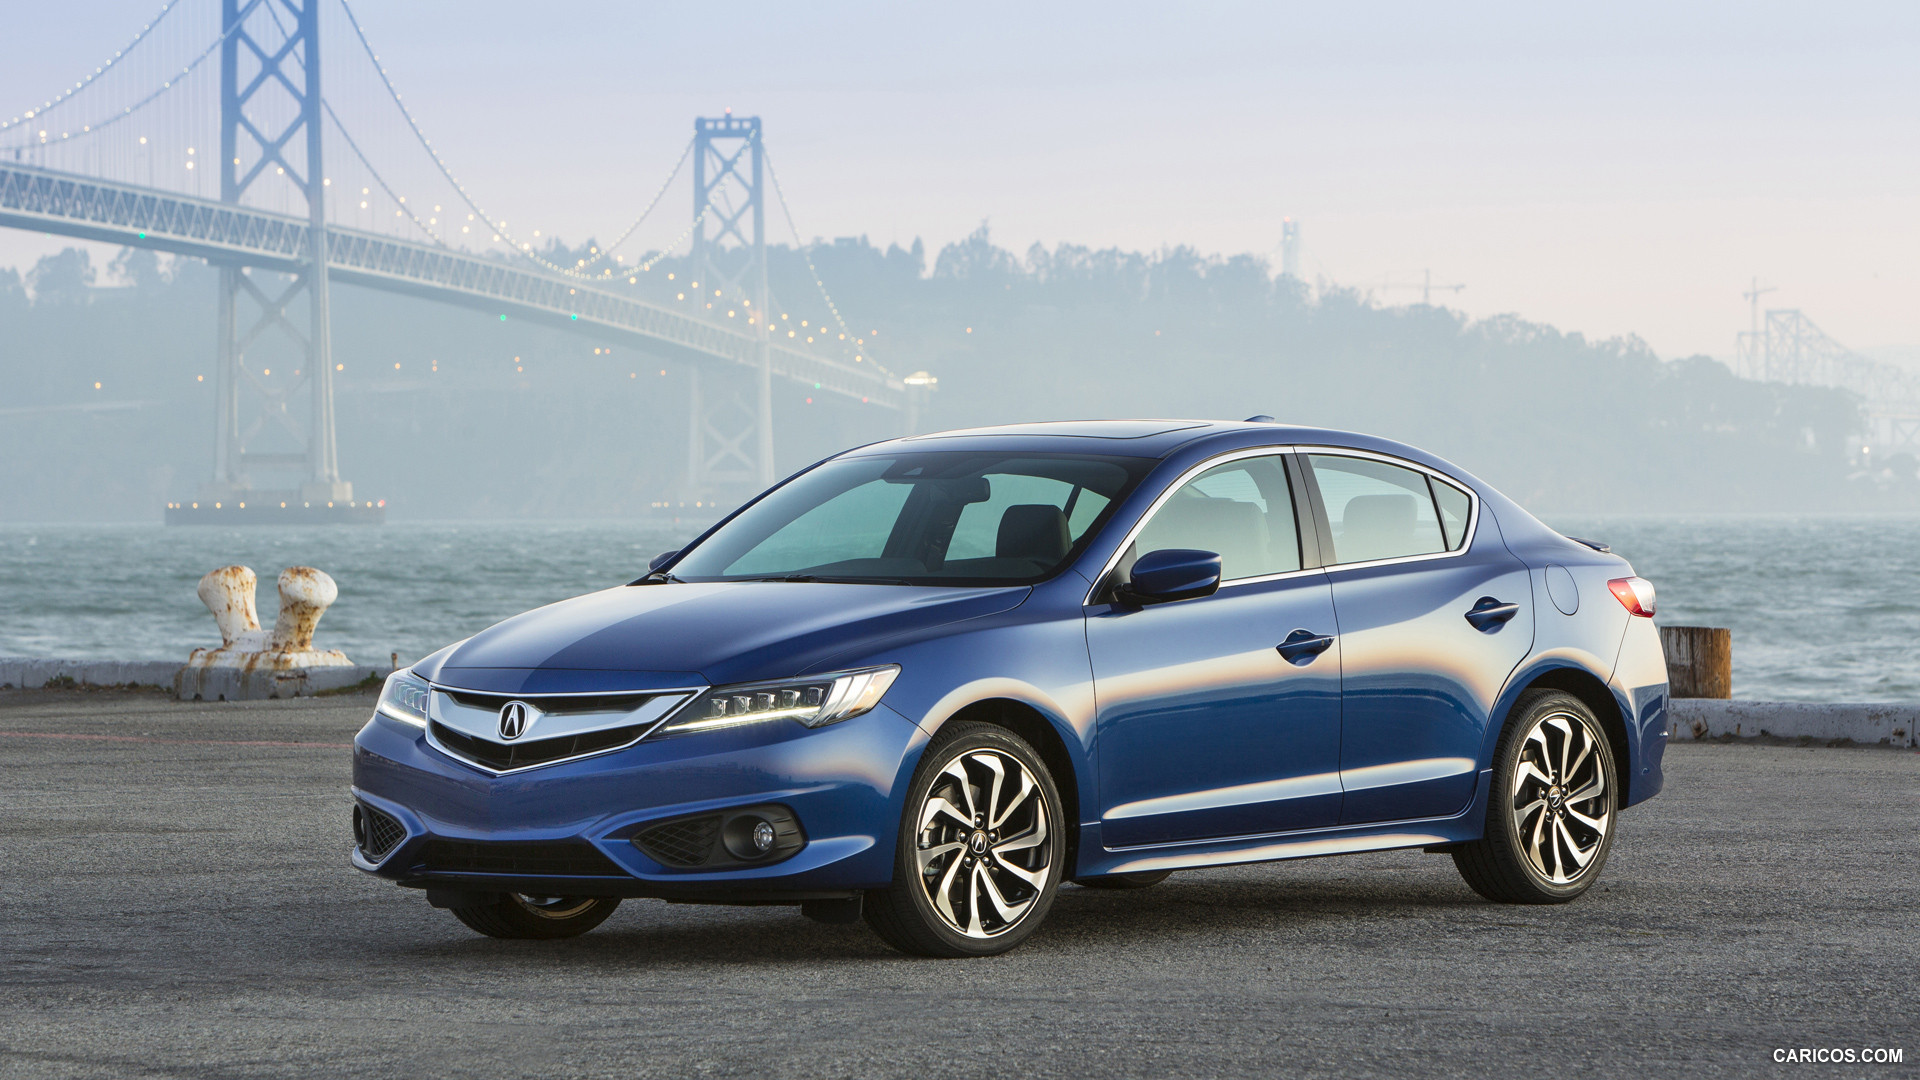Fog Lamp & Scope: (626, 806, 811, 882)
Front: (348, 592, 1015, 889)
Front Bumper: (345, 781, 902, 886)
Grill: (425, 691, 679, 771)
Headlight: (655, 665, 901, 742)
